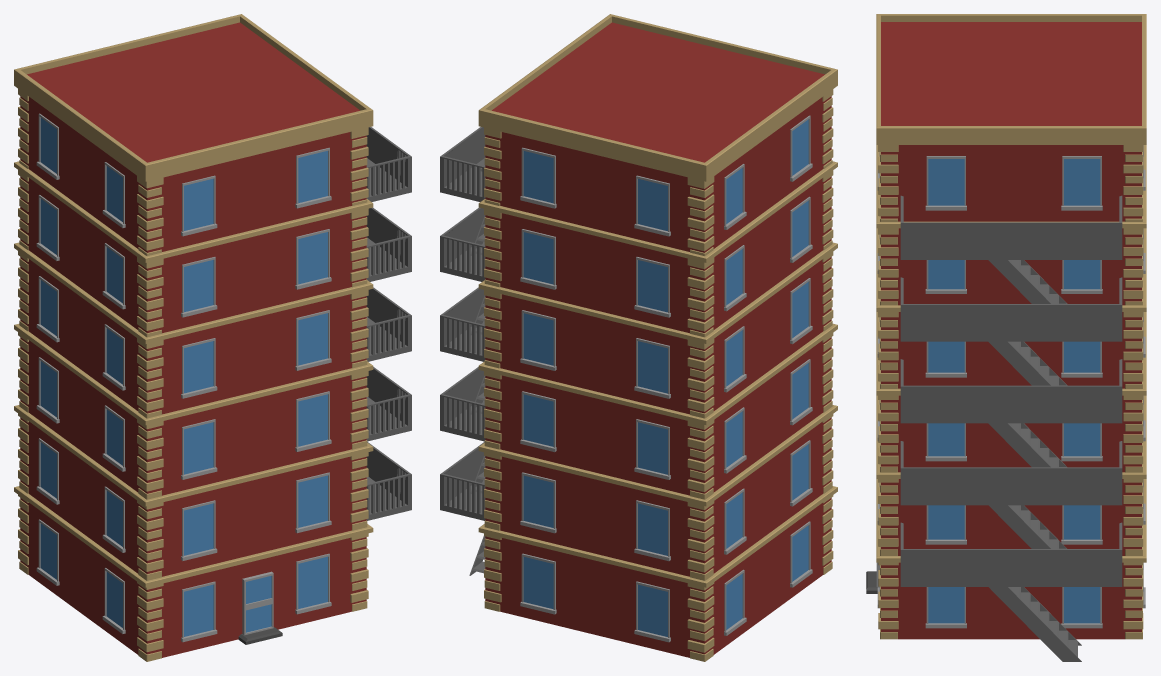
File: GebouwRood.fbx
3 views of the same model, side by side, from view 1: azimuth 30°, elevation 25°; view 2: azimuth 150°, elevation 25°; view 3: azimuth 270°, elevation 25° (orthographic). The views are drawn at different scales.
Parts seen in each view (by area): view 1: gebouwRood; view 2: gebouwRood; view 3: gebouwRood.
Part boxes in pixels (x1=…): gebouwRood: x1=14, y1=14, x2=411, y2=661; gebouwRood: x1=440, y1=14, x2=837, y2=661; gebouwRood: x1=866, y1=14, x2=1146, y2=661.
Bounding box in the file's own units: 761 × 1304 × 645.
